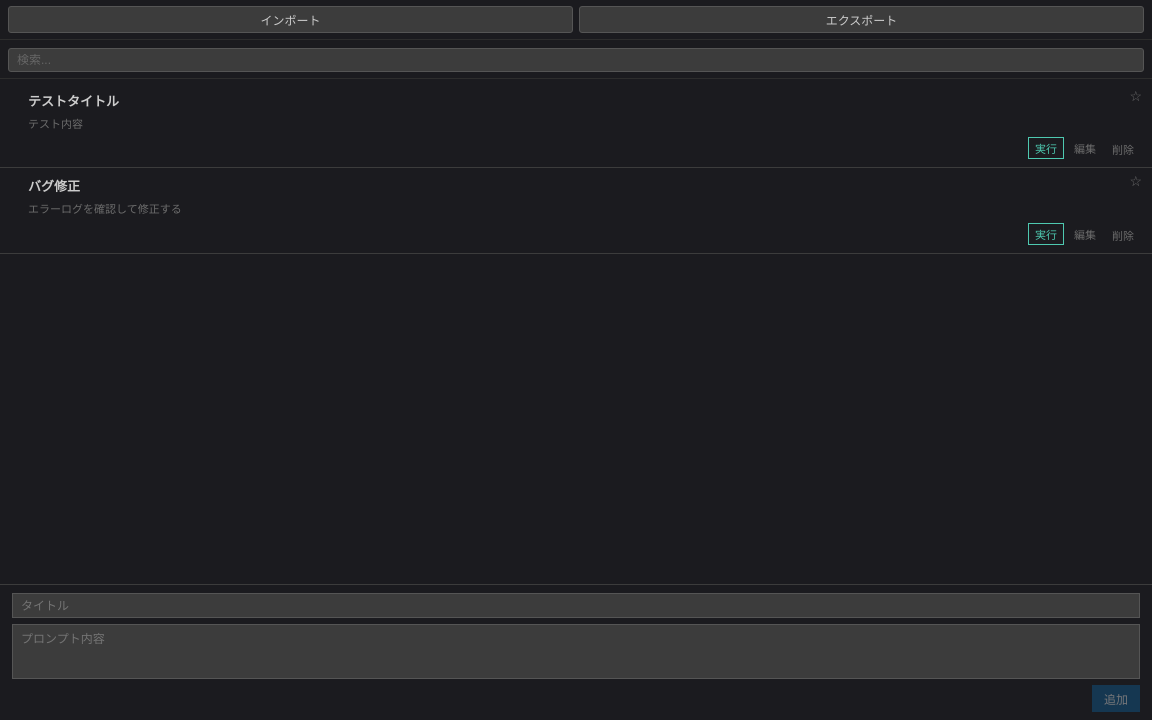
Scenario: PromptsPanel › 検索 UI › prompts があるとき検索 input に入力すると title で絞り込まれる
Type "テスト" into the search field at coordinates (576, 60), box [8,48,1144,72]
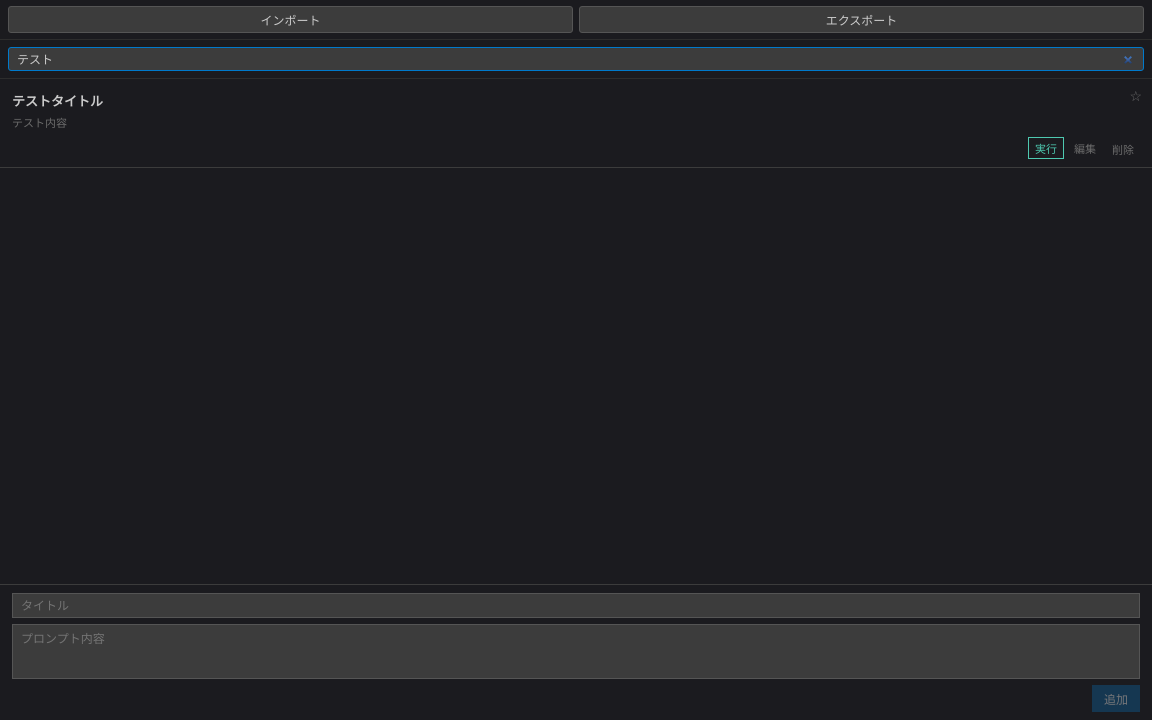
Expected: the text "テストタイトル" is shown, [12,93,103,109]
Expected: the text "バグ修正" is gone
